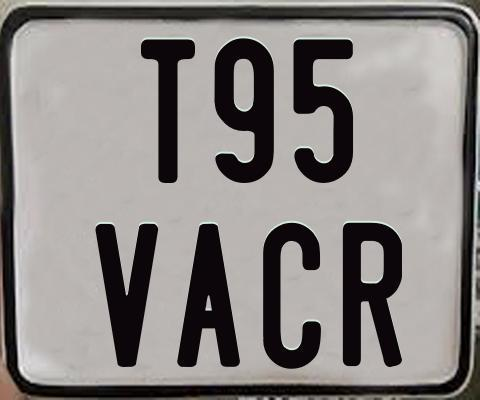5: (291, 38, 355, 182)
9: (211, 38, 272, 186)
A: (177, 223, 241, 368)
C: (262, 221, 321, 373)
R: (340, 220, 404, 368)
T: (138, 36, 194, 184)
V: (93, 223, 162, 368)
